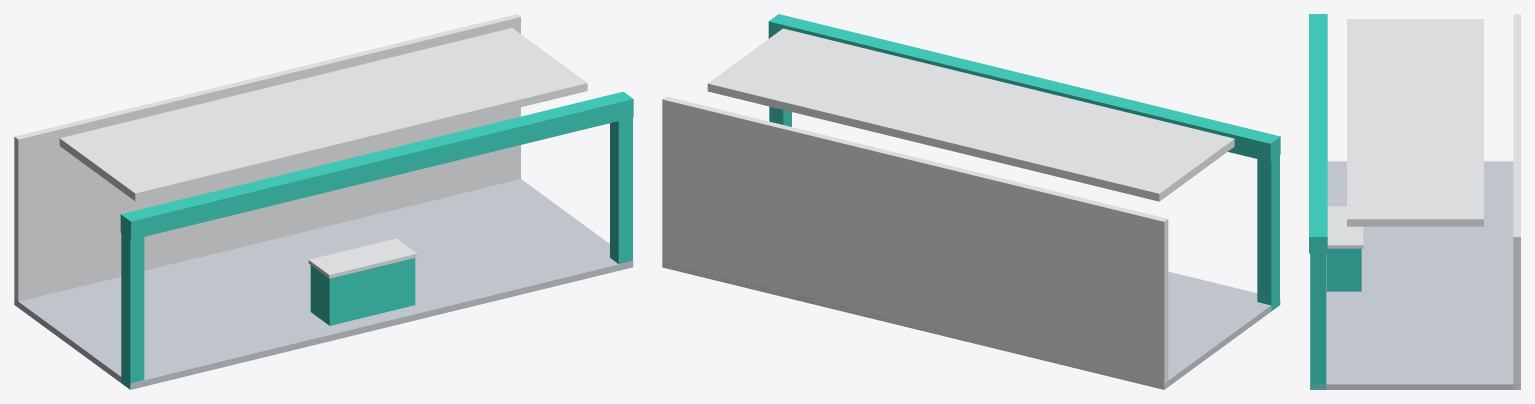
The picture shows the model from 3 angles, left to right: view 1: azimuth 30°, elevation 25°; view 2: azimuth 150°, elevation 25°; view 3: azimuth 270°, elevation 25°; orthographic projection. The views are drawn at different scales.
Visible parts, largest first — view 1: Exhibition Booth Concept; view 2: Exhibition Booth Concept; view 3: Exhibition Booth Concept.
Part boxes in pixels (x1,y1,x2,y2): Exhibition Booth Concept: [14, 14, 633, 389]; Exhibition Booth Concept: [662, 14, 1280, 389]; Exhibition Booth Concept: [1309, 14, 1520, 389].
Size of the model in its own units: 10 by 3.34 by 4.02.
